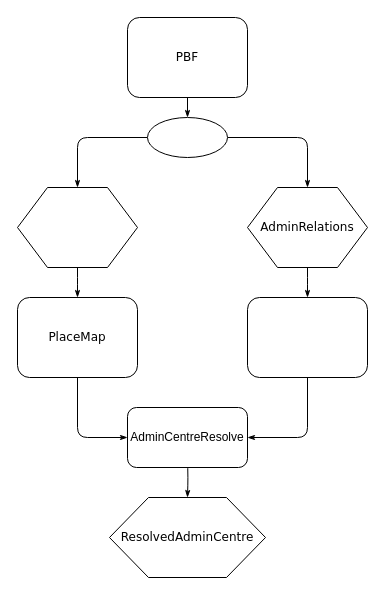
Some shapes in this 385 by 595 pixel diagram are drawn without their labels. The shapes that lost their labels are listed below. From the top down, each one's centre as x and y in pixels, then its label:
the point at 187,137: extract
the point at 77,227: PlaceNodes
the point at 307,337: AdminPolygons
